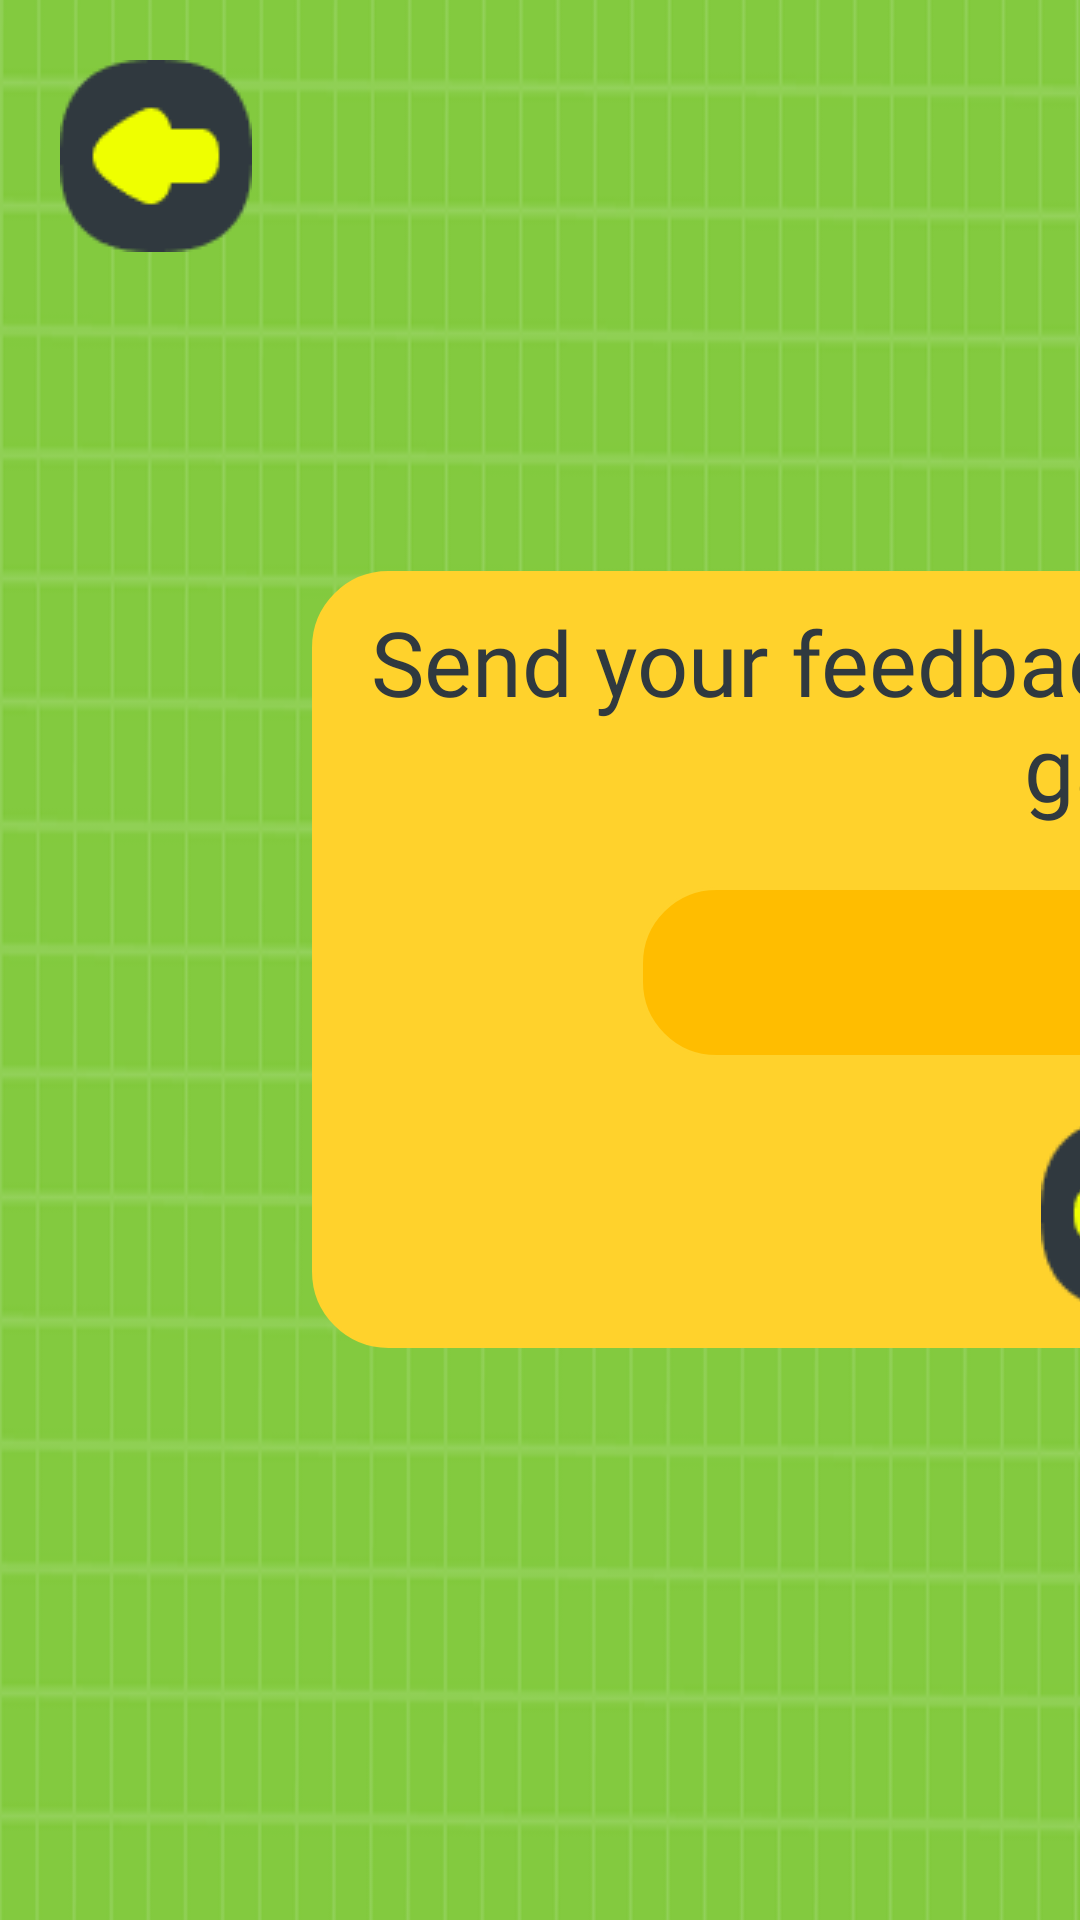

Icon click points for this 1080x1920 phone screenshot, format (x=x, y=y):
back: (x=156, y=156)
